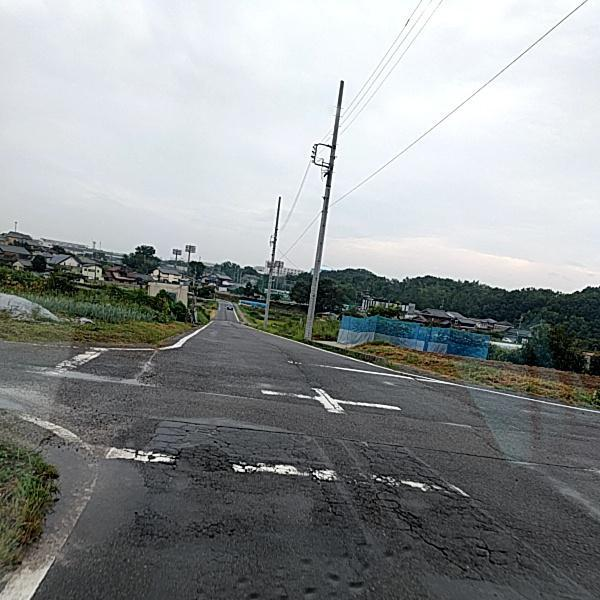D20: (112, 402, 519, 577)
